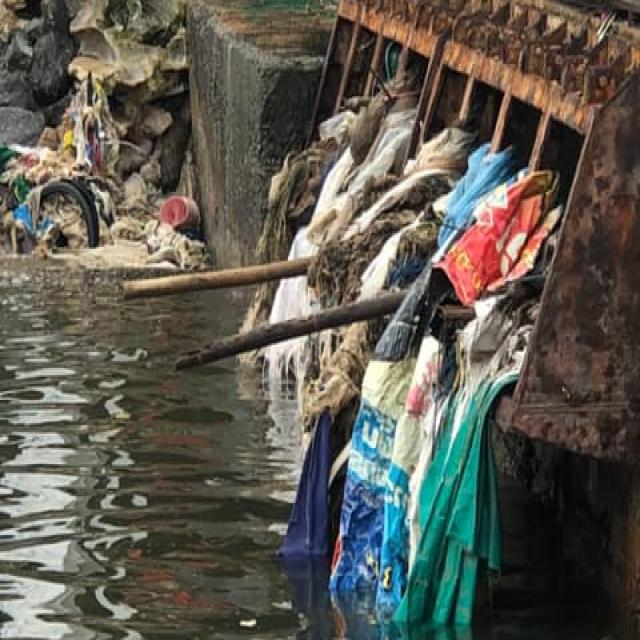-: (218, 106, 640, 640)
